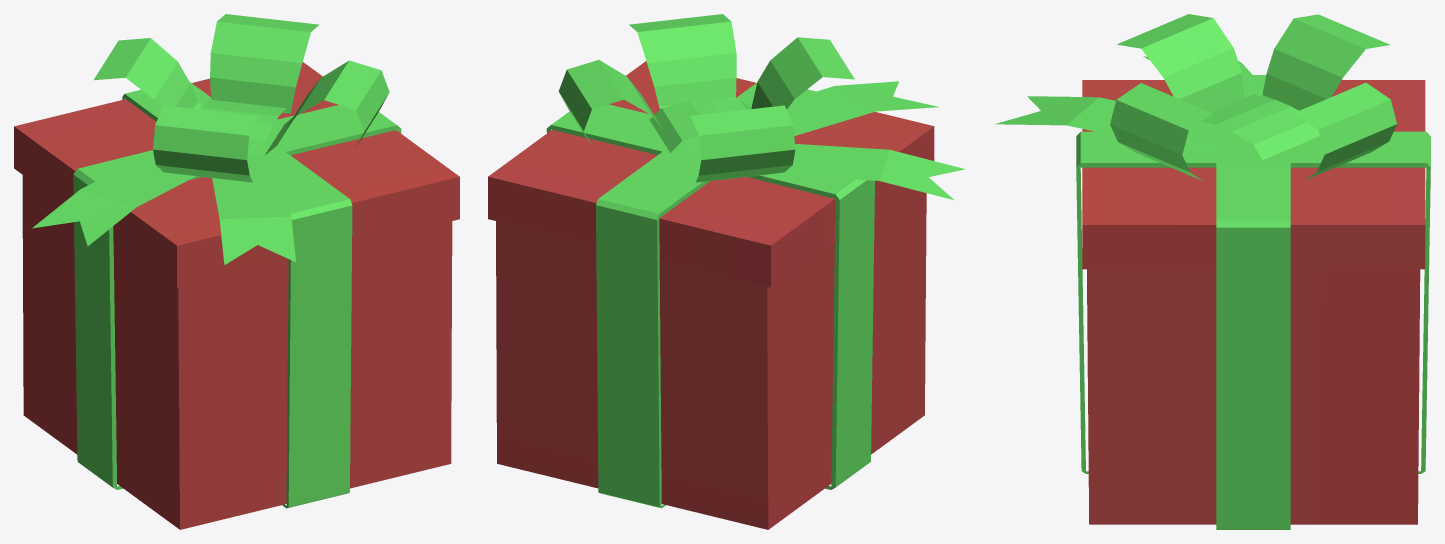
File: present.glb
The picture shows the model from 3 angles, left to right: view 1: azimuth 30°, elevation 25°; view 2: azimuth 150°, elevation 25°; view 3: azimuth 270°, elevation 25°; orthographic projection. The views are drawn at different scales.
Visible parts, largest first — view 1: Present; view 2: Present; view 3: Present.
Boxes of the visible parts, x1=… form: Present: x1=14, y1=14, x2=459, y2=529; Present: x1=488, y1=14, x2=964, y2=529; Present: x1=995, y1=14, x2=1430, y2=529.
Bounding box in the file's own units: 0.17 × 0.164 × 0.1649.
1 material, 1 textured.
